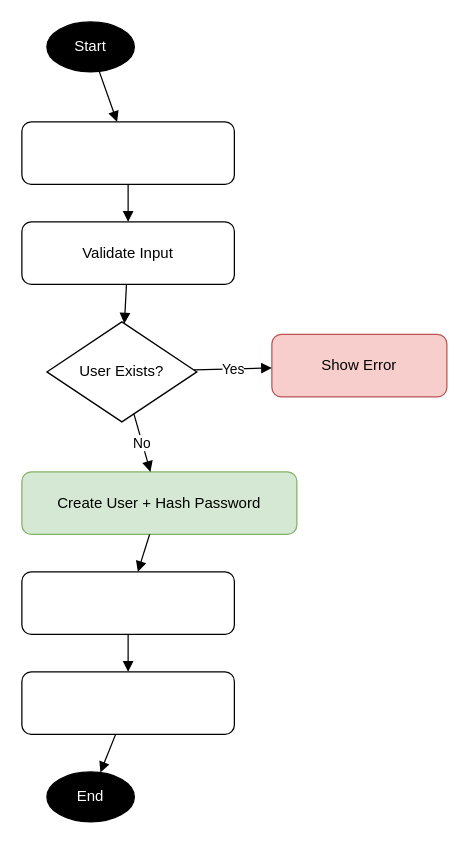
The diagram is 469 pixels wide and 844 high, and some of its shapes have lost their labels. Each missing label, with the centre of its shape:
Fill Registration Form: (x=127, y=152)
Generate JWT: (x=127, y=602)
Return Success: (x=127, y=702)
